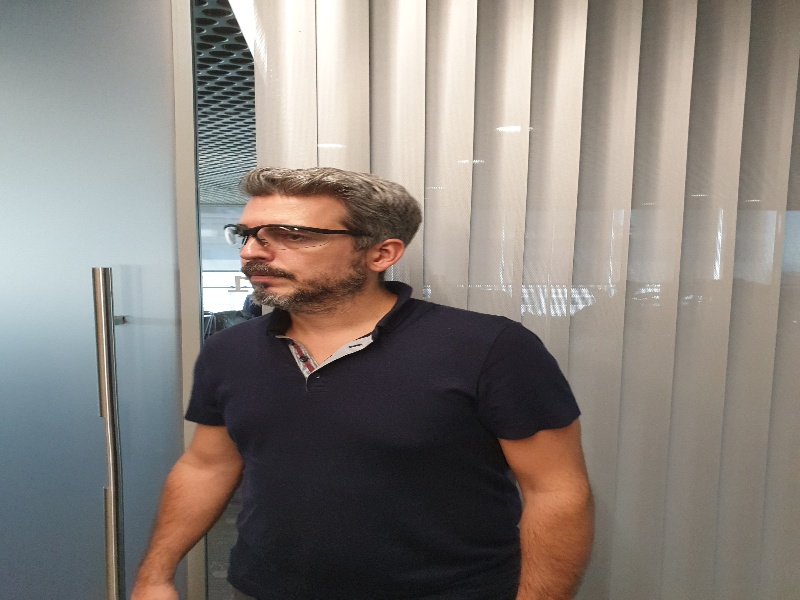Gozluk: (221, 222, 361, 253)
